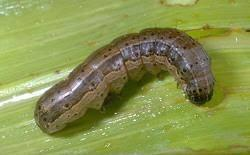fallarmy_worm: (32, 25, 217, 139)
